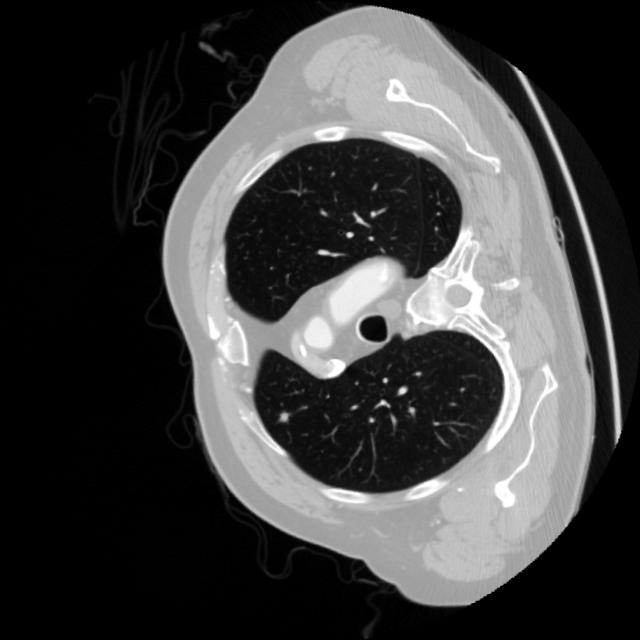nodule: (266, 400, 300, 434)
